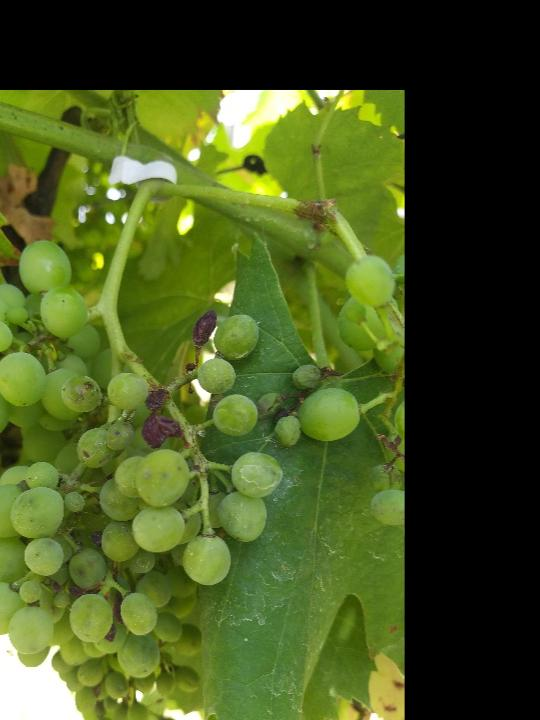grape: (0, 240, 287, 677)
